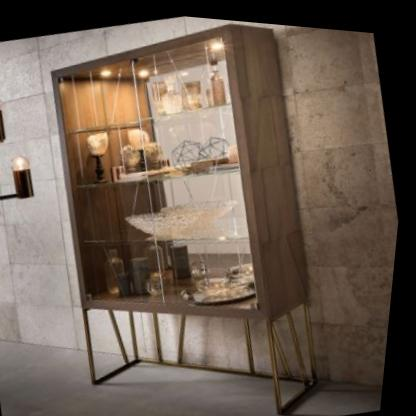Ceramic floor: (0, 341, 324, 416)
Cupboard: (19, 4, 362, 416)
